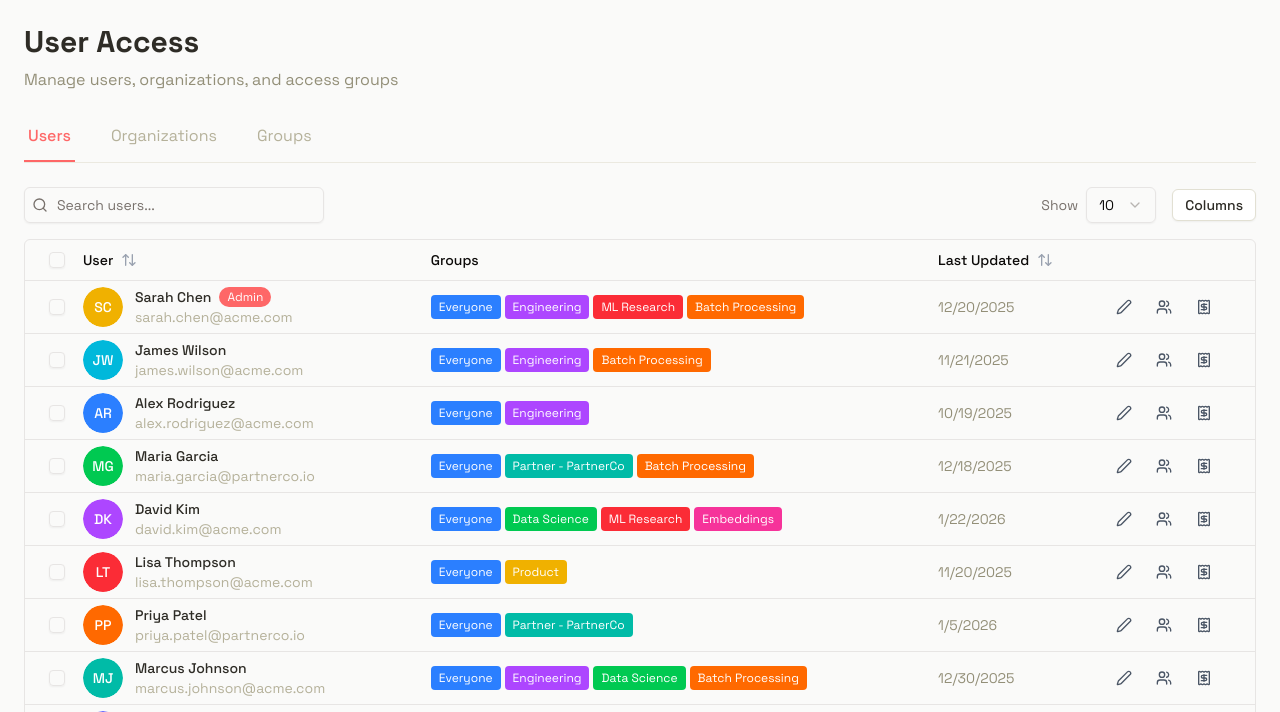
it: UsersGroups Component › User Management Journey › tests Edit Group Modal through group dropdown
Expected: the heading "User Access" is shown, x1=24 y1=22 x2=199 y2=61
What coordinates should you click on to do the following:
click the tab "Groups"
I would click on:
 (284, 143)
Its box is x1=253 y1=124 x2=316 y2=162.
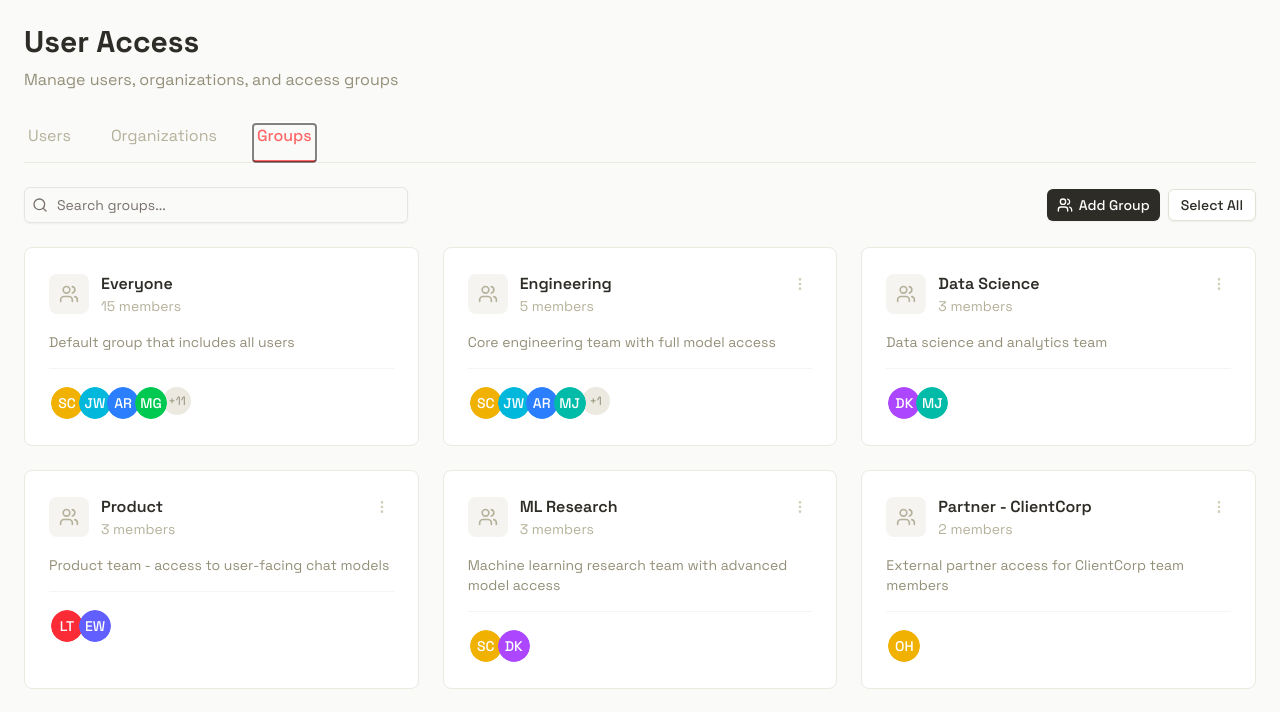
Expected: the heading "Engineering" is shown, x1=520 y1=272 x2=612 y2=296
Expected: the 1st button named "open menu" is shown
What coordinates should you click on to do the following:
click the 1st button named "open menu"
I would click on:
 (800, 284)
Its box is x1=788 y1=272 x2=812 y2=296.
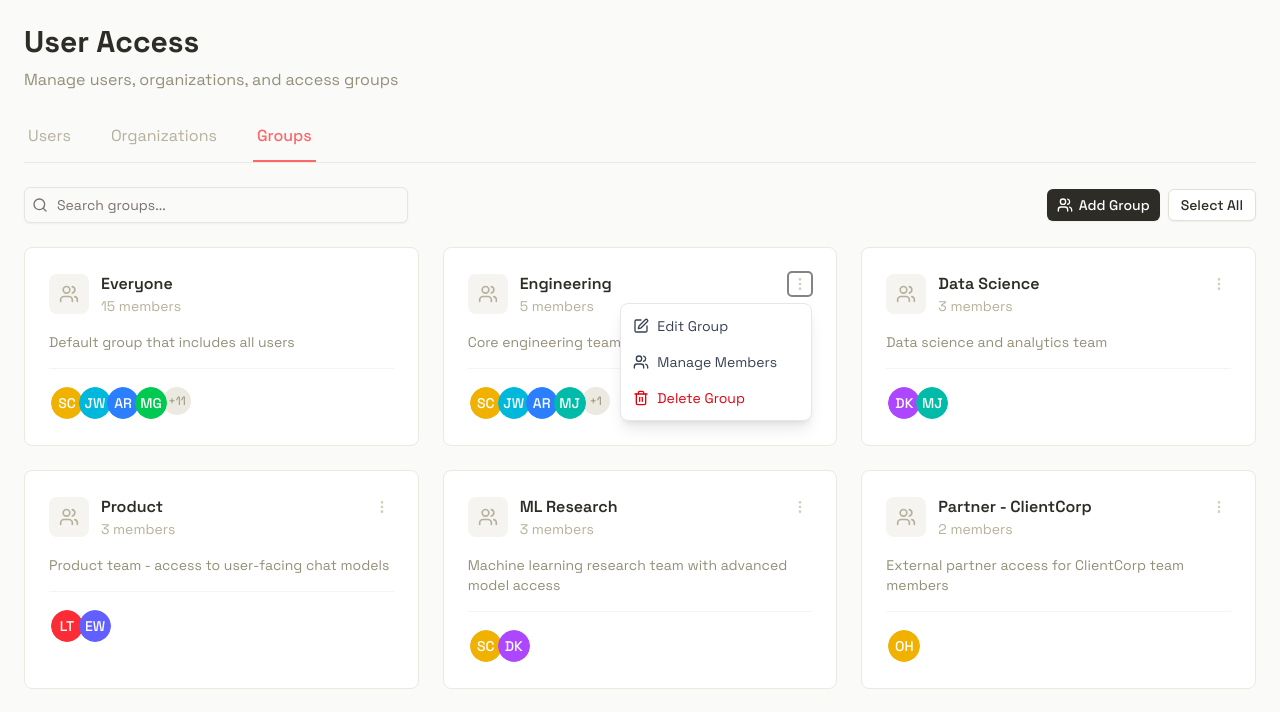
Expected: the menu is shown, x1=620 y1=303 x2=812 y2=421
Expected: the menu item "Edit Group" is shown
What coordinates should you click on to do the following:
click the menu item "Edit Group"
I would click on:
 (716, 326)
Its box is x1=621 y1=308 x2=811 y2=344.
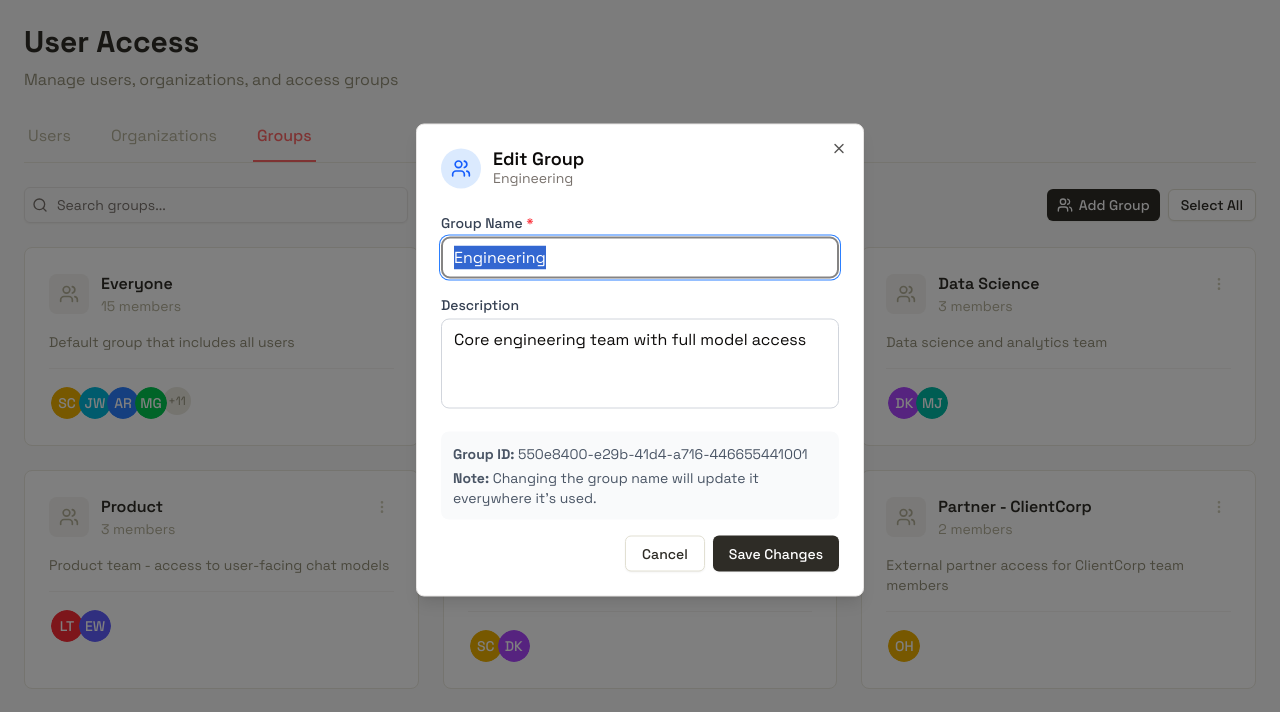
Expected: the dialog "Edit Group" is shown, x1=416 y1=124 x2=864 y2=596
Expected: the field labelled "Group Name *" is shown, x1=441 y1=236 x2=839 y2=278
Expected: the text box labelled "Description" is shown, x1=441 y1=318 x2=839 y2=408
What coordinates should you click on to do the following:
click the button "Cancel"
I would click on:
 (665, 554)
Its box is x1=625 y1=536 x2=705 y2=572.
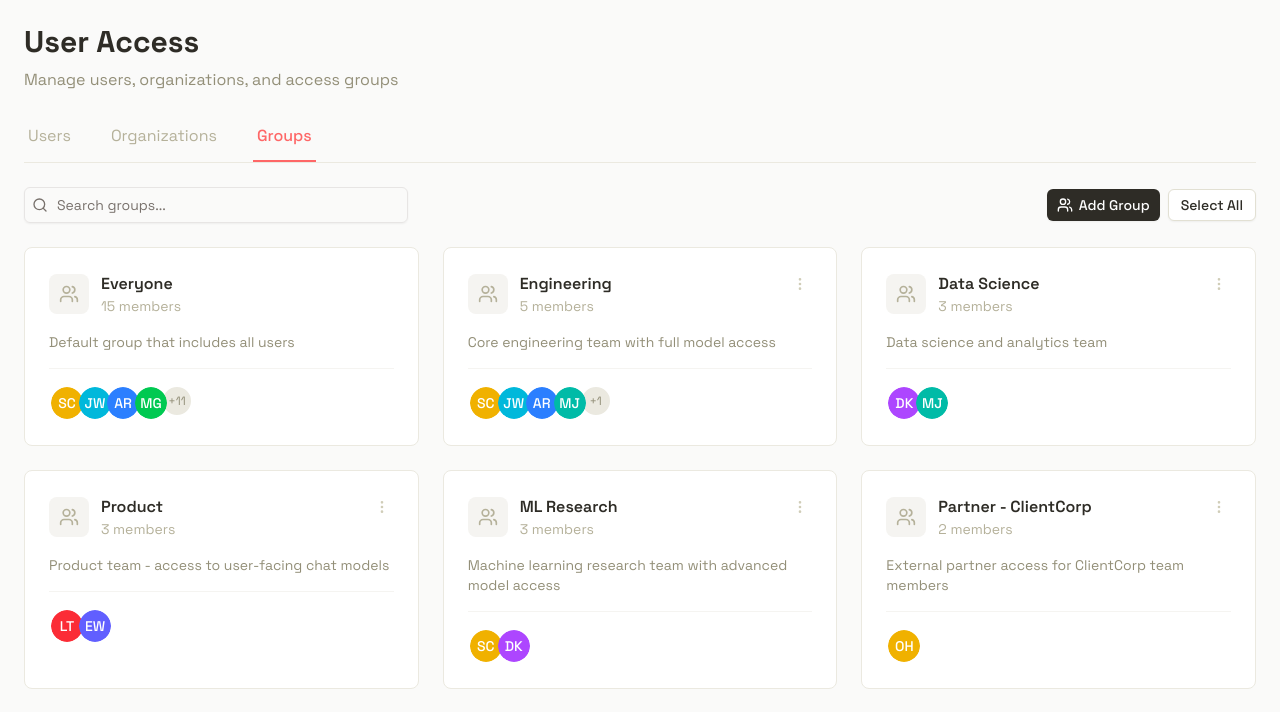
Expected: the dialog is gone
